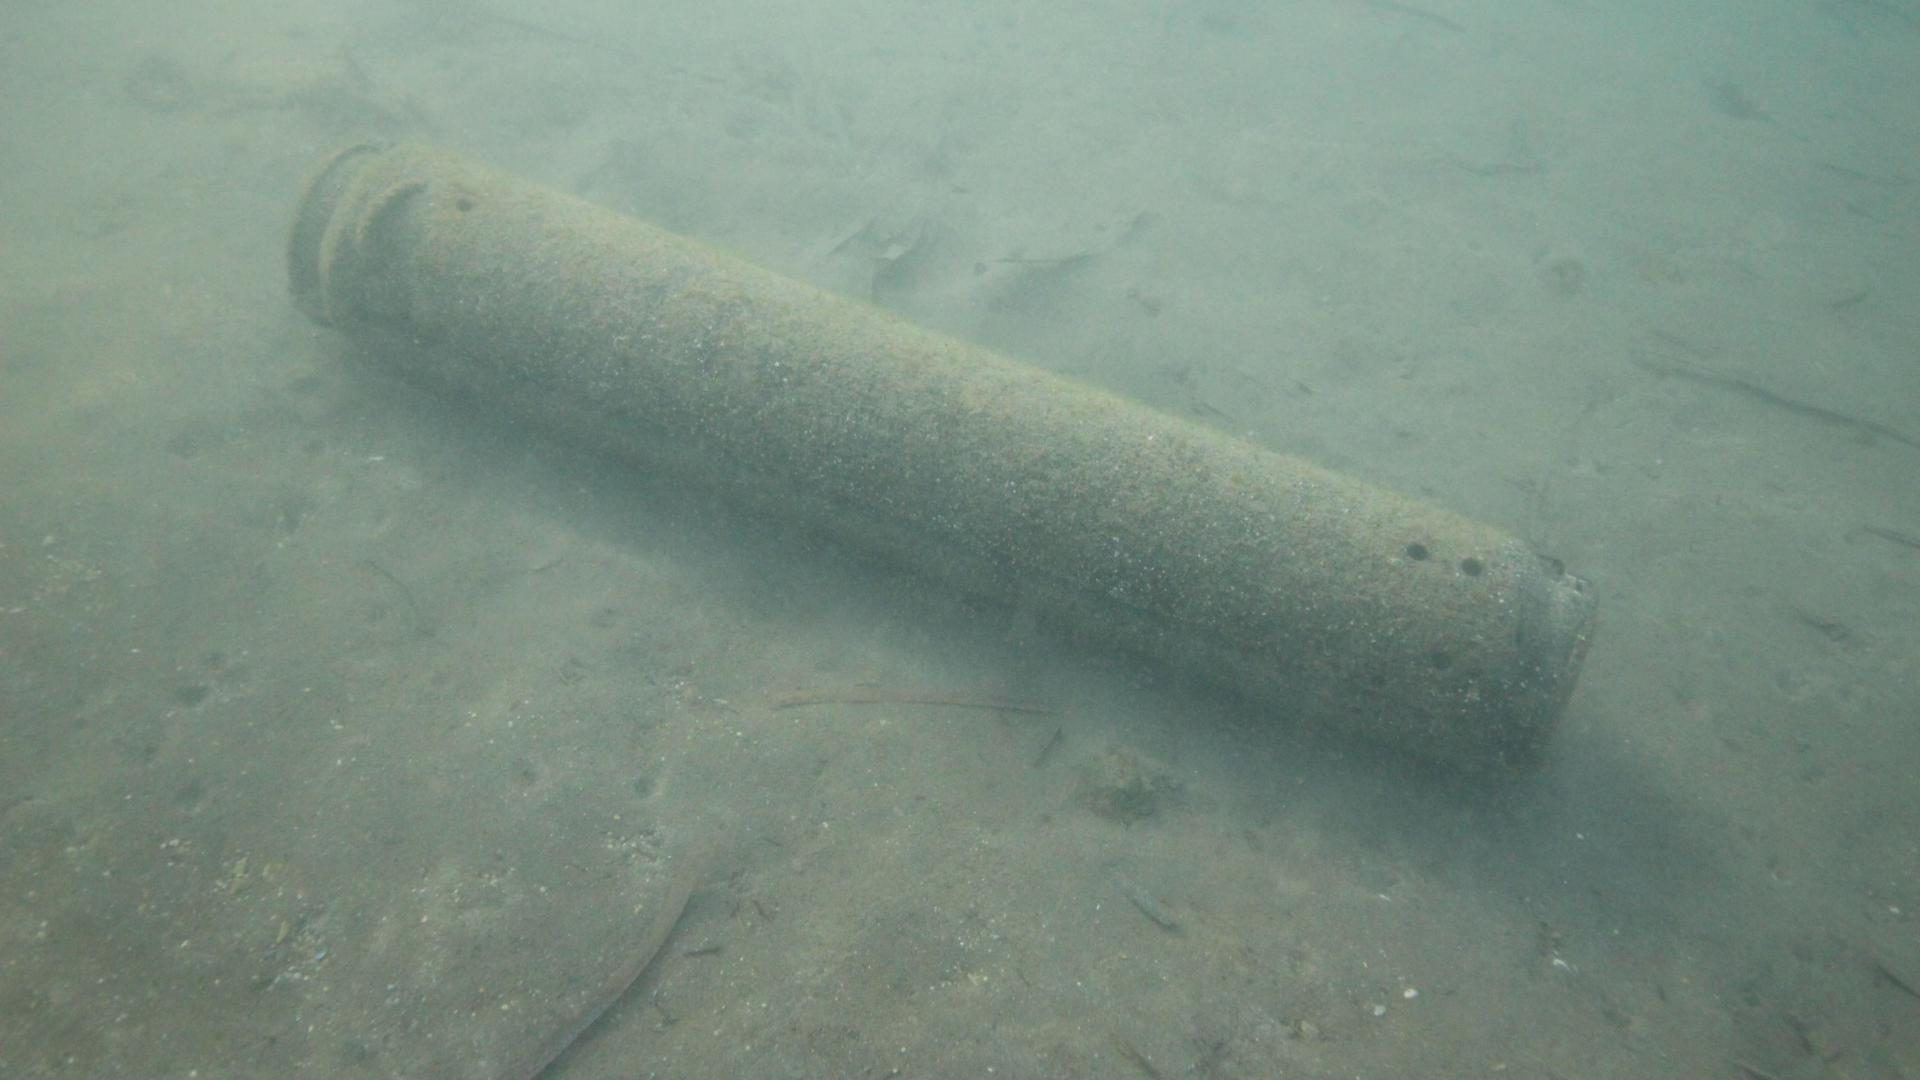eel fish trap: (278, 138, 1602, 790)
